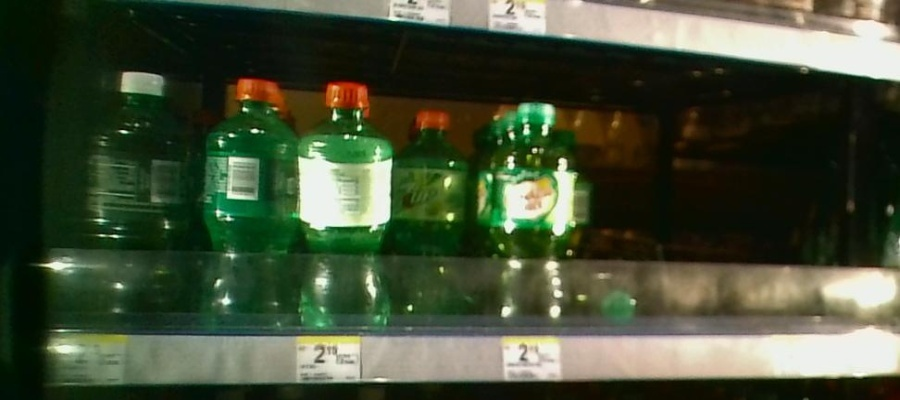bottle: (85, 53, 193, 325), (197, 73, 294, 331), (297, 73, 390, 329), (493, 96, 576, 320), (393, 95, 473, 325)
